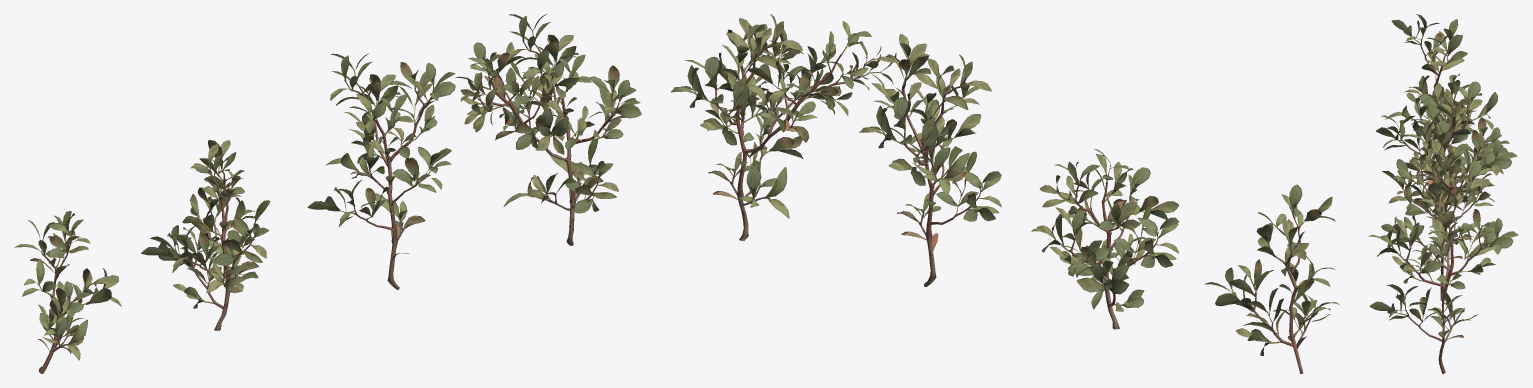
Rendered from shrub_04.glb.
The picture shows the model from 3 angles, left to right: view 1: azimuth 30°, elevation 25°; view 2: azimuth 150°, elevation 25°; view 3: azimuth 270°, elevation 25°; orthographic projection. The views are drawn at different scales.
Visible parts, largest first — view 1: shrub_04; view 2: shrub_04; view 3: shrub_04.
Boxes of the visible parts, x1=… form: shrub_04: x1=14, y1=14, x2=641, y2=373; shrub_04: x1=671, y1=14, x2=1339, y2=373; shrub_04: x1=1368, y1=14, x2=1518, y2=373.
Size of the model in its own units: 0.5837 by 0.2192 by 0.1461.
Materials: 1 (1 with a texture image).
